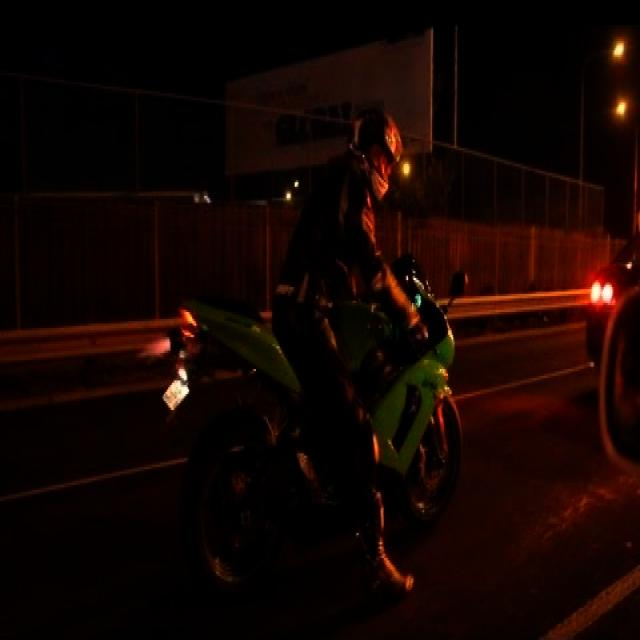Motorbike: (142, 264, 464, 604)
